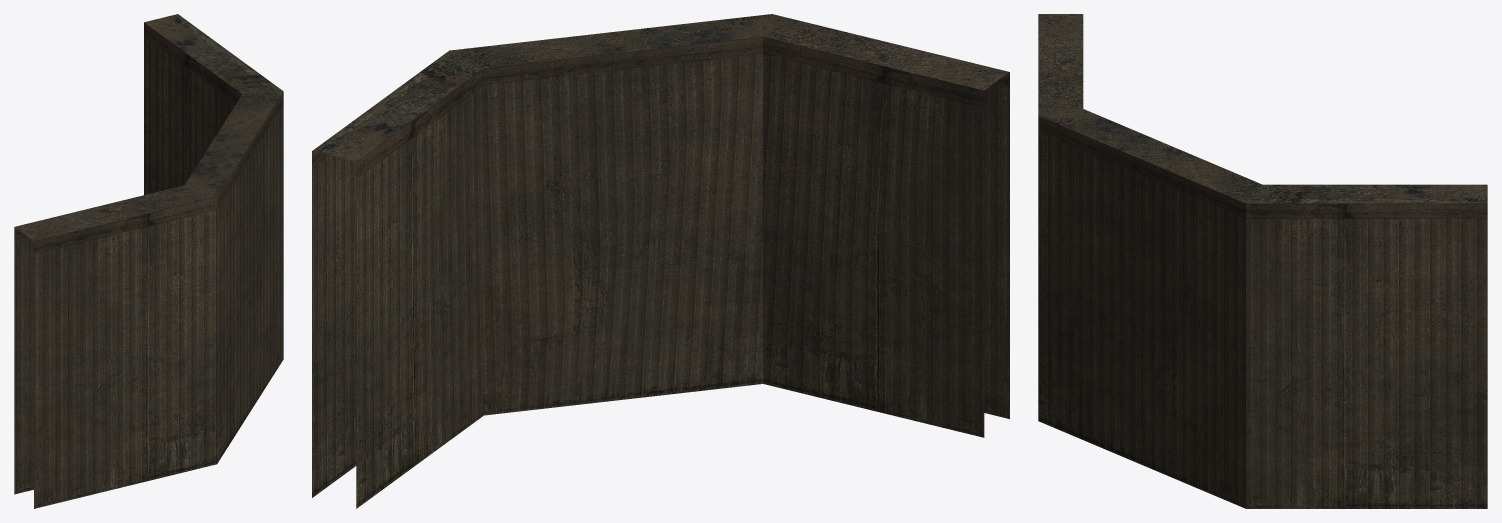
Rendered from wall_rx_1_m2a_1.fbx.
3 renders of one model, left to right at view 1: azimuth 30°, elevation 25°; view 2: azimuth 150°, elevation 25°; view 3: azimuth 270°, elevation 25°, orthographic. The views are drawn at different scales.
Visible parts, largest first — view 1: wall_rx_1_m2a_1; view 2: wall_rx_1_m2a_1; view 3: wall_rx_1_m2a_1.
Boxes of the visible parts, x1,y1,x2,y2 form: wall_rx_1_m2a_1: (14, 14, 283, 508); wall_rx_1_m2a_1: (312, 14, 1009, 508); wall_rx_1_m2a_1: (1038, 14, 1487, 508).
Size of the model in its own units: 4 by 3 by 4.
